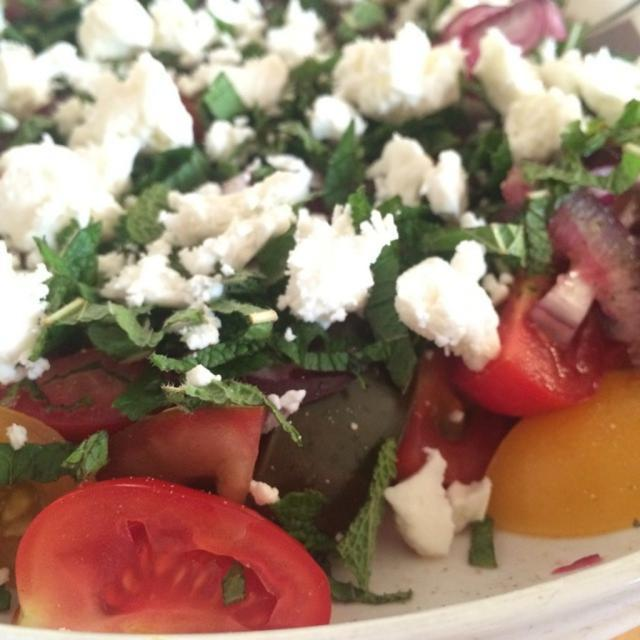Tomato: (8, 475, 332, 633), (466, 273, 616, 424), (95, 406, 267, 507), (399, 356, 509, 486), (0, 351, 143, 437)
